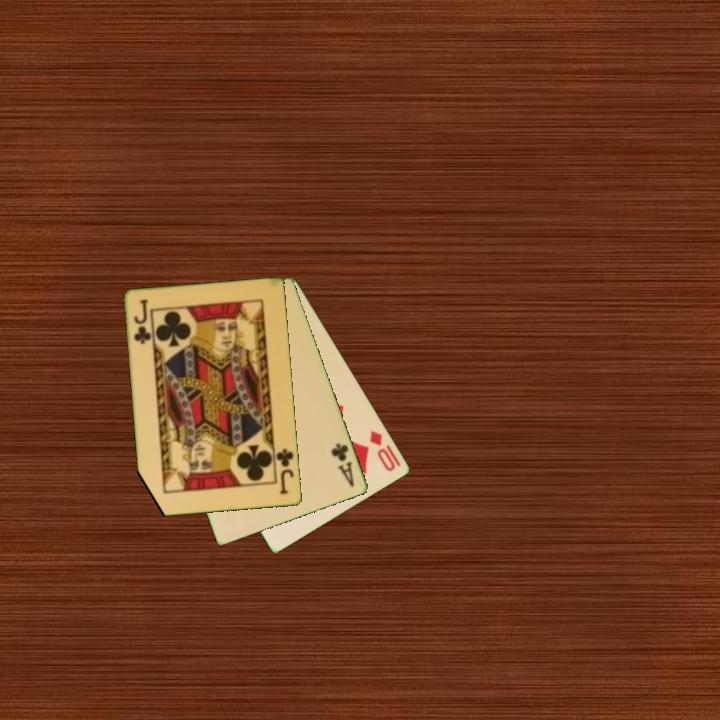10d: (366, 427, 399, 474)
Ac: (328, 440, 358, 490)
Jc: (271, 444, 297, 497), (130, 296, 153, 347)
